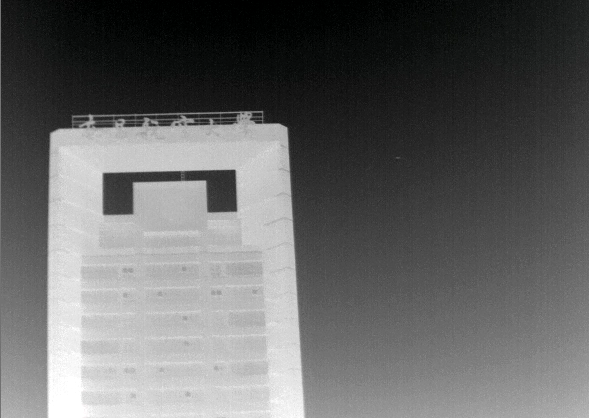dim target: (395, 155, 401, 160)
